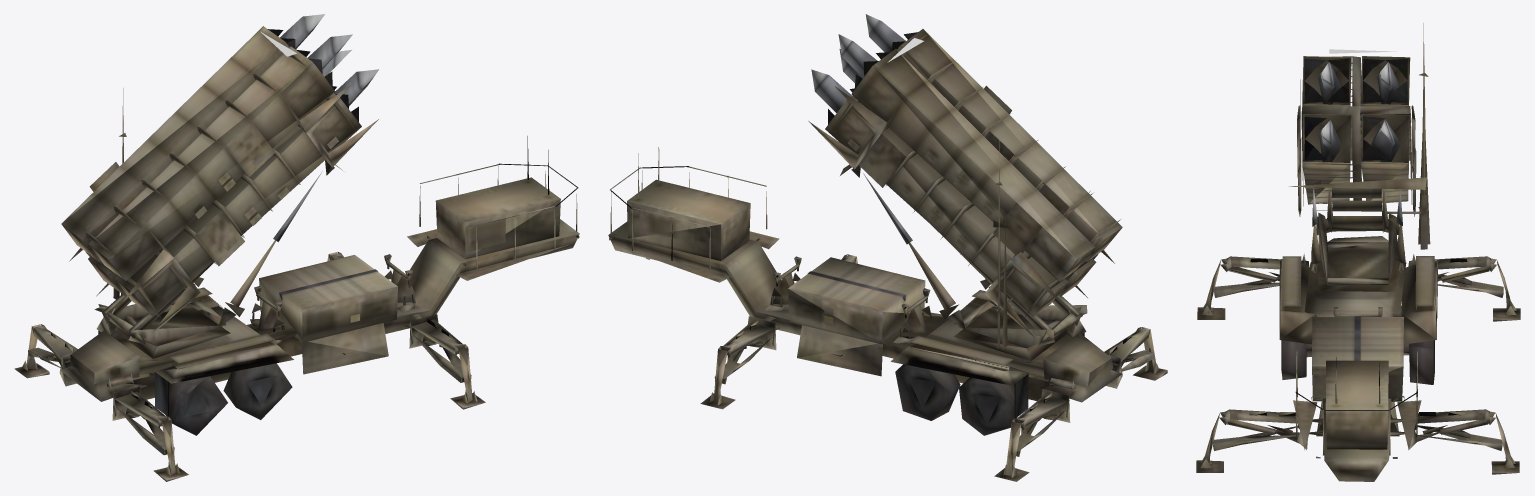
The model's file is patriot_lo.glb.
The picture shows the model from 3 angles, left to right: view 1: azimuth 30°, elevation 25°; view 2: azimuth 150°, elevation 25°; view 3: azimuth 270°, elevation 25°; orthographic projection. The views are drawn at different scales.
Visible parts, largest first — view 1: g_patriot_hull; view 2: g_patriot_hull; view 3: g_patriot_hull.
Part boxes in pixels (bbox=[...]): g_patriot_hull: bbox=[14, 14, 579, 481]; g_patriot_hull: bbox=[608, 14, 1167, 481]; g_patriot_hull: bbox=[1196, 23, 1520, 481].
Bounding box in the file's own units: 10.38 × 7.09 × 5.69.
2 materials, 1 textured.
